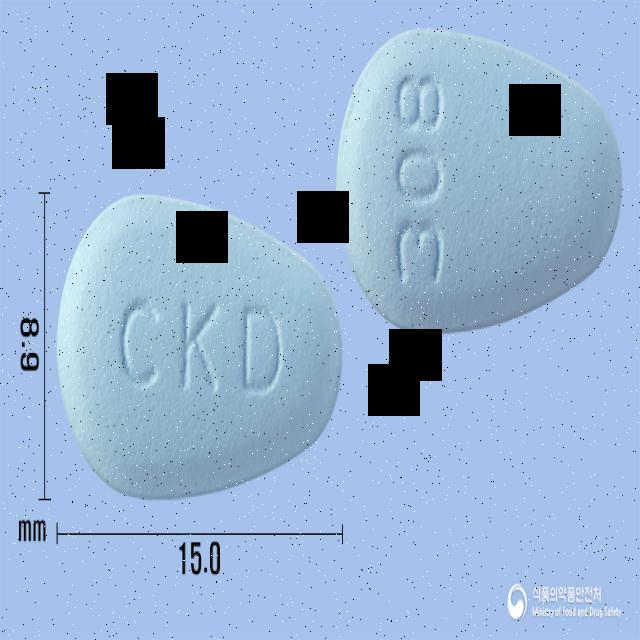Tenofobell Tab: (55, 188, 343, 502), (338, 21, 622, 336)
